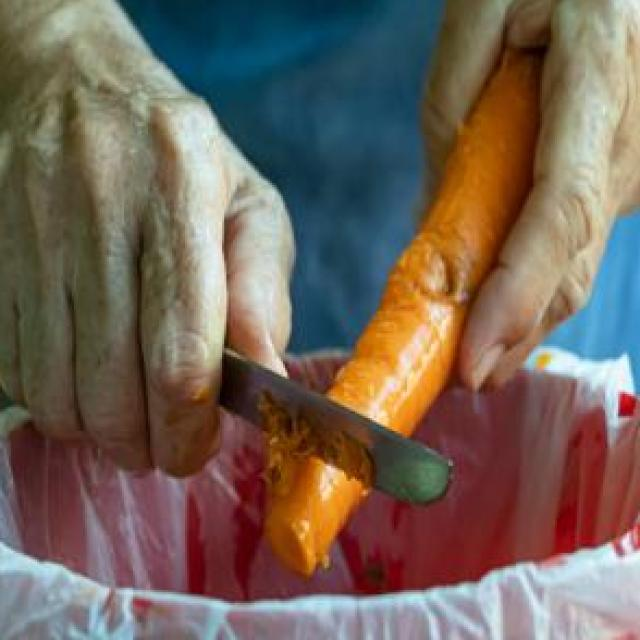knife: (198, 318, 456, 506)
